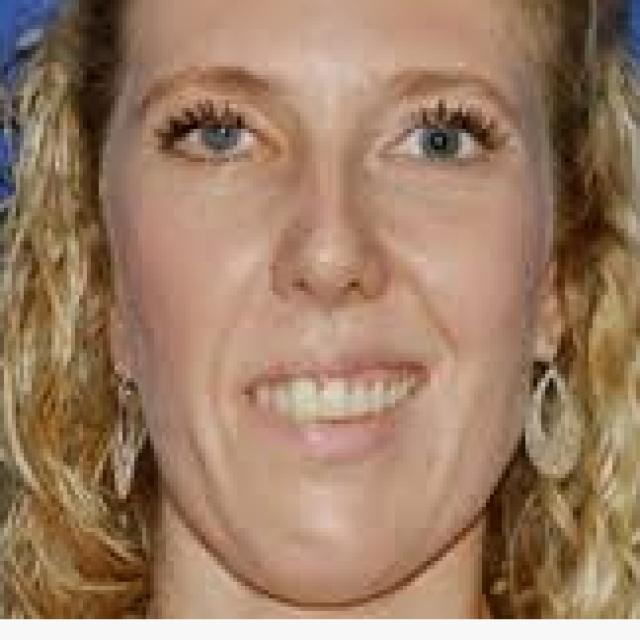stroke_face: (112, 4, 544, 604)
